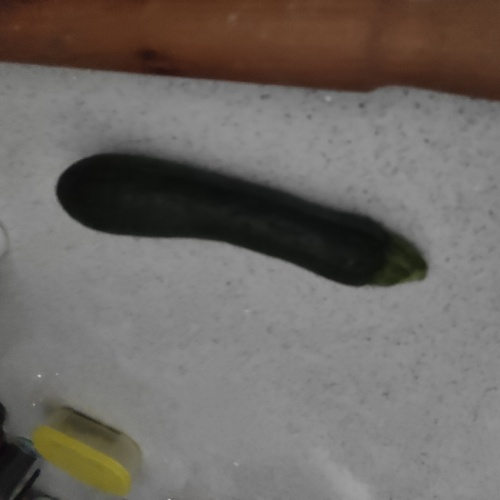zucchine: (63, 147, 429, 318)
